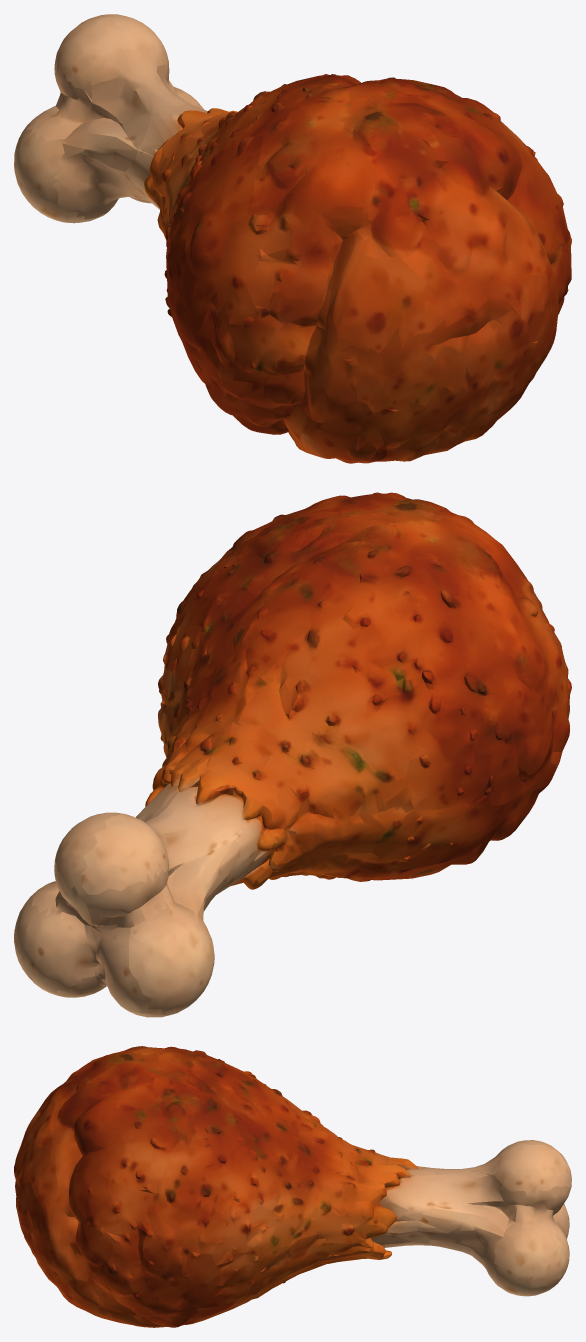
The model's file is drumsticks.glb.
3 views of the same model, one above another, from view 1: azimuth 30°, elevation 25°; view 2: azimuth 150°, elevation 25°; view 3: azimuth 270°, elevation 25° (orthographic). The views are drawn at different scales.
Visible parts, largest first — view 1: Mesh_0; view 2: Mesh_0; view 3: Mesh_0.
Part boxes in pixels (x1,y1,x2,y2): Mesh_0: (14,14,571,463); Mesh_0: (14,492,571,1017); Mesh_0: (14,1046,571,1327).
Size of the model in its own units: 1.03 by 0.9378 by 1.9.
Materials: 1 (1 with a texture image).
